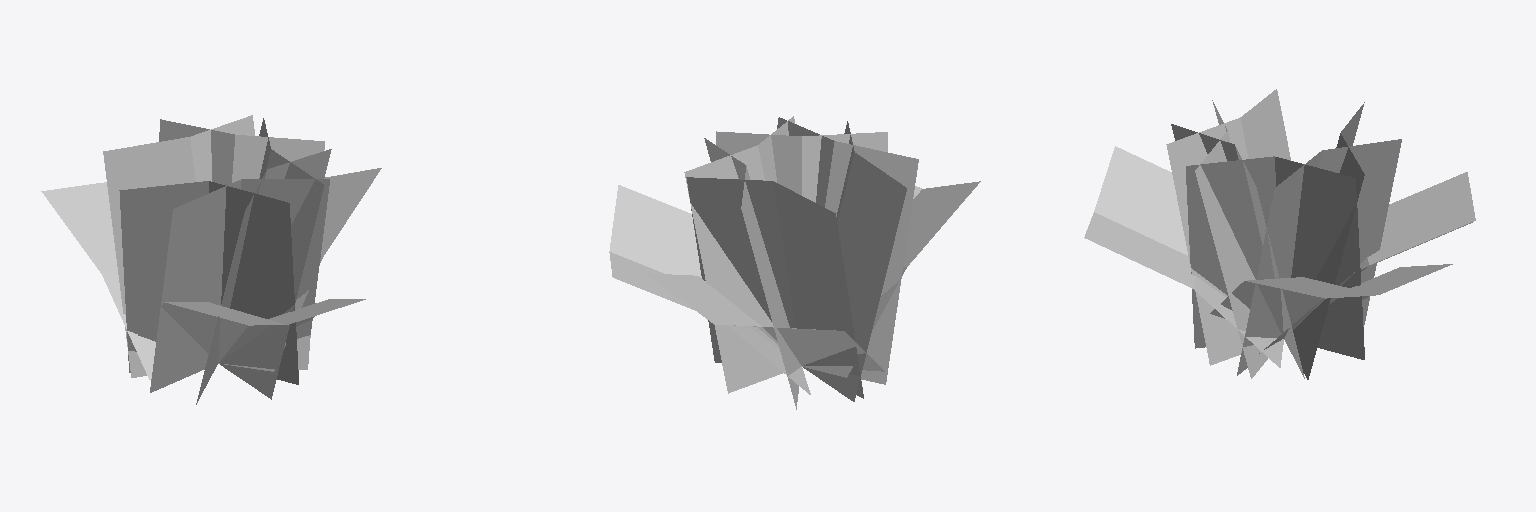
Rendered from field_grass.obj.
The picture shows the model from 3 angles: view 1: azimuth 30°, elevation 25°; view 2: azimuth 150°, elevation 25°; view 3: azimuth 270°, elevation 25°; orthographic projection.
Size of the model in its own units: 2.61 by 1.91 by 3.21.